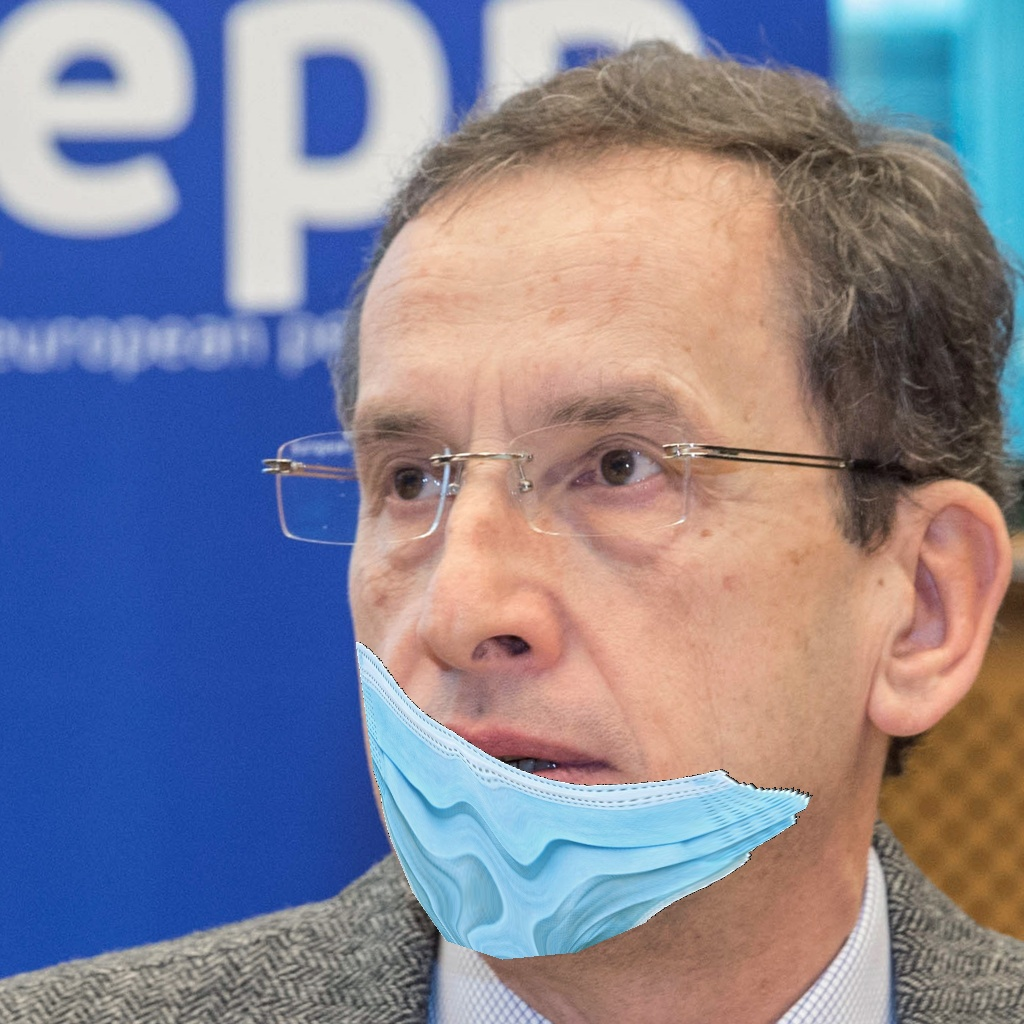mascarilla_mal_puesta: (329, 315, 924, 950)
